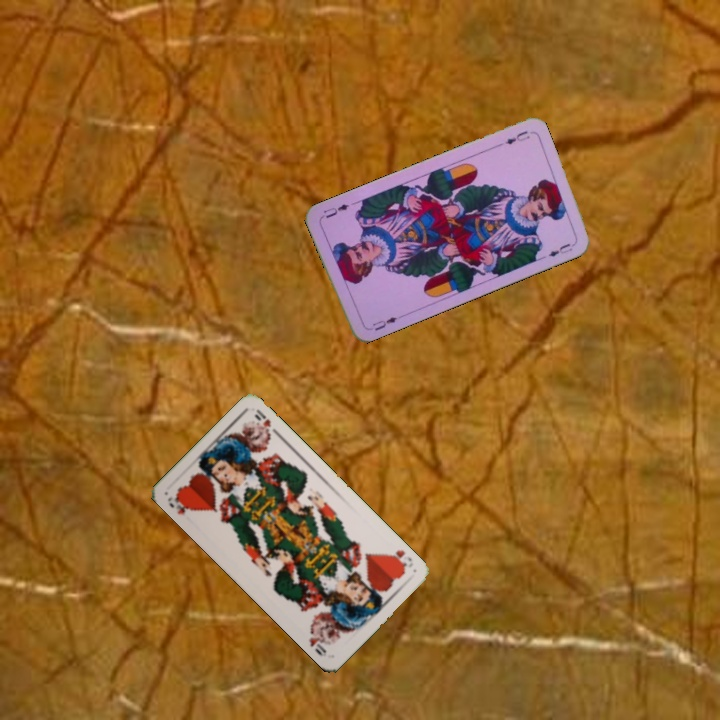EU: (368, 312, 400, 333), (501, 127, 533, 147)
HO: (385, 545, 415, 574), (163, 490, 195, 517)
